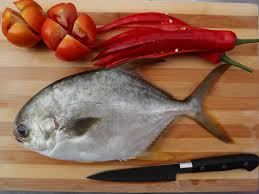Ikan Bawal: (9, 65, 240, 156)
